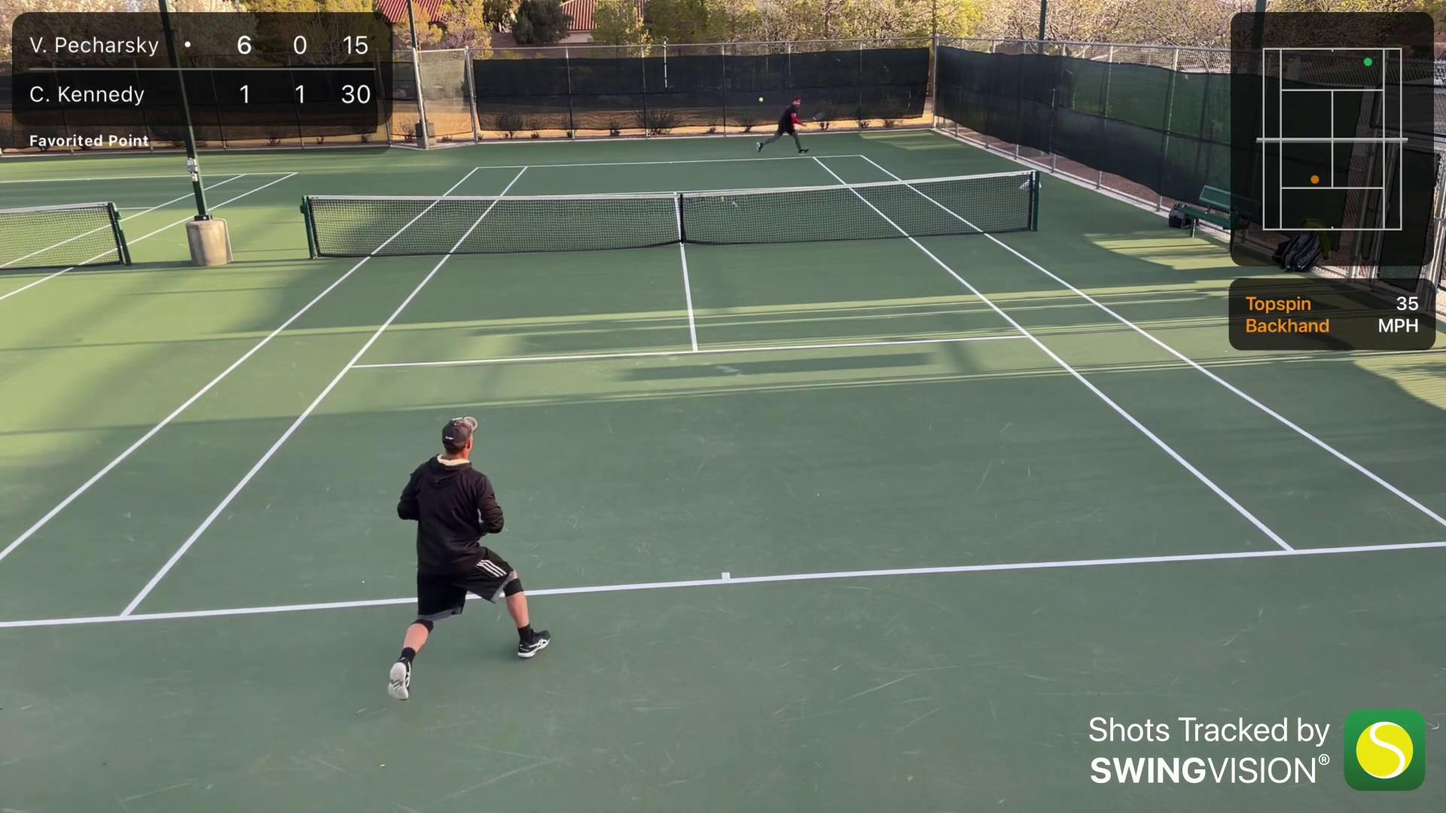ball: (757, 96, 764, 103)
